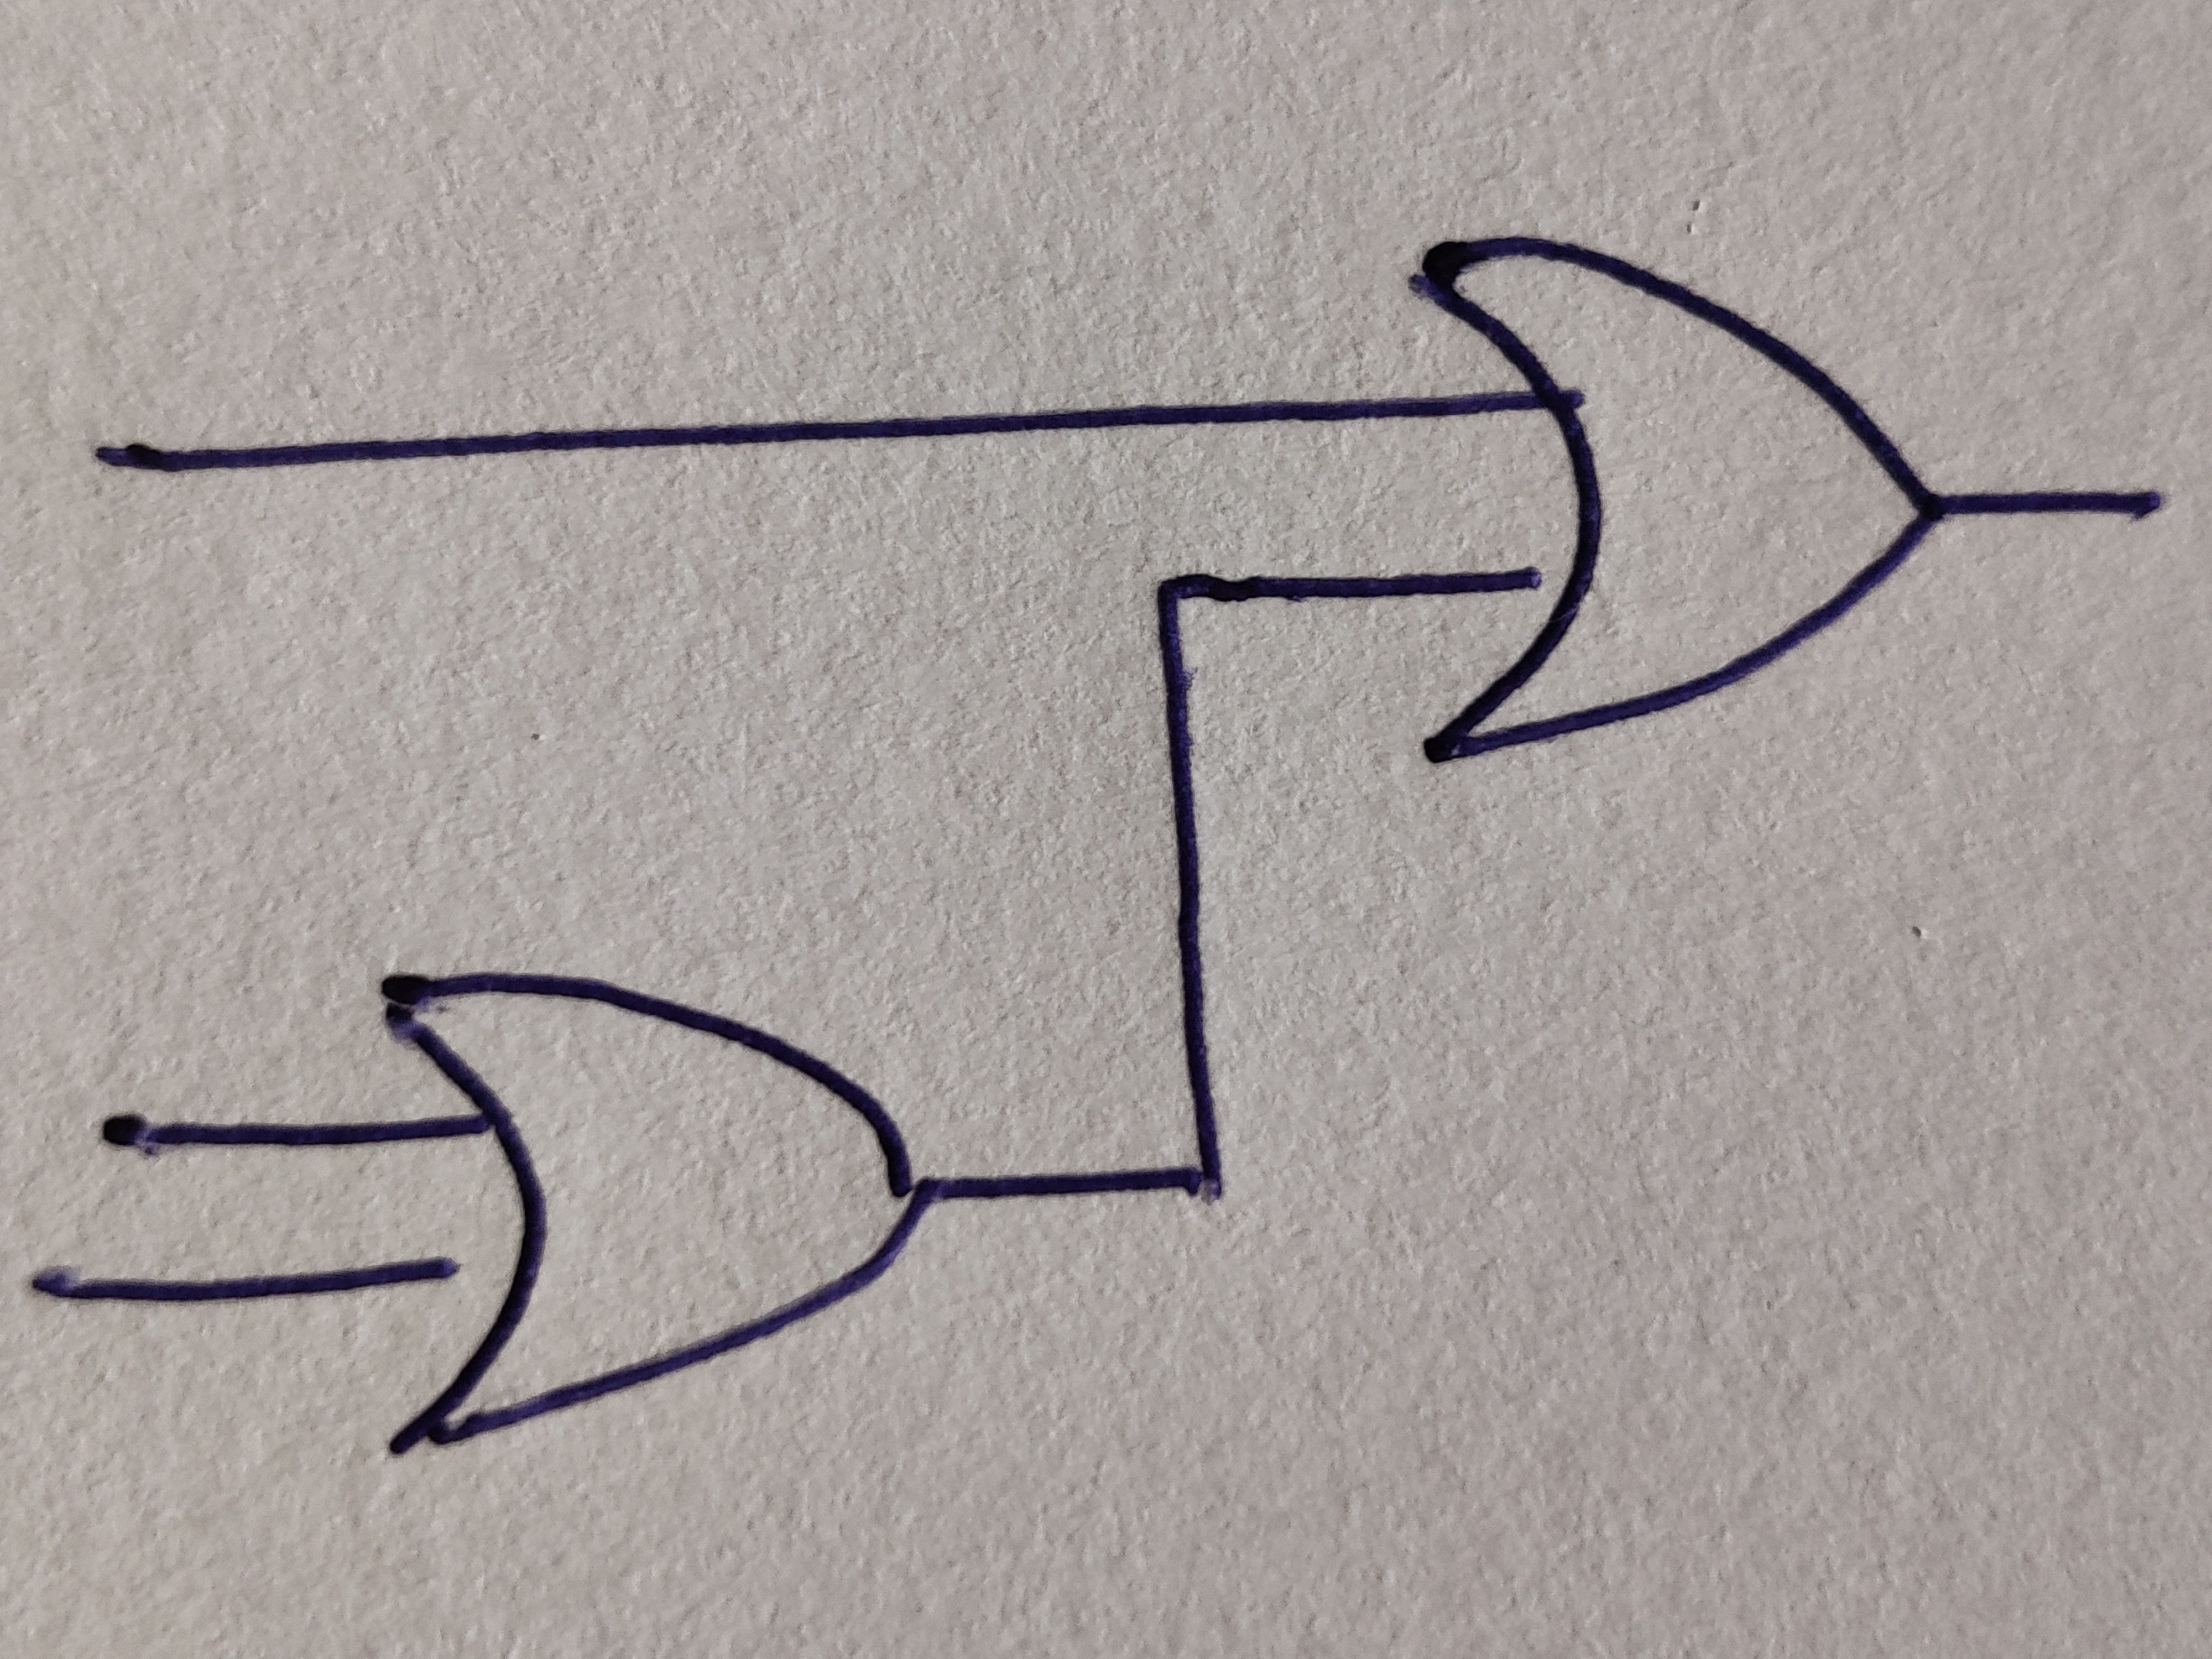or: (1423, 237, 1944, 765), (381, 974, 935, 1457)
